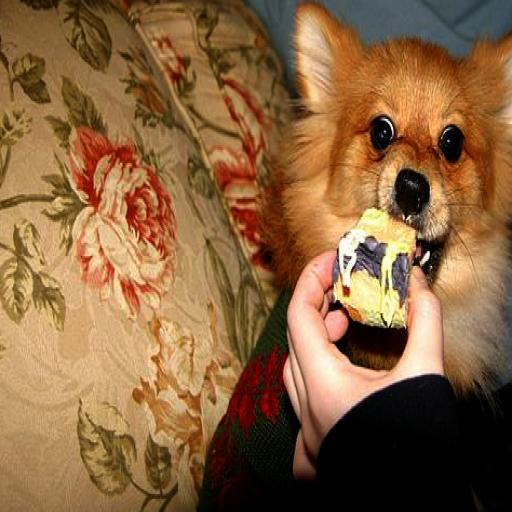dog_face: (295, 5, 512, 228)
